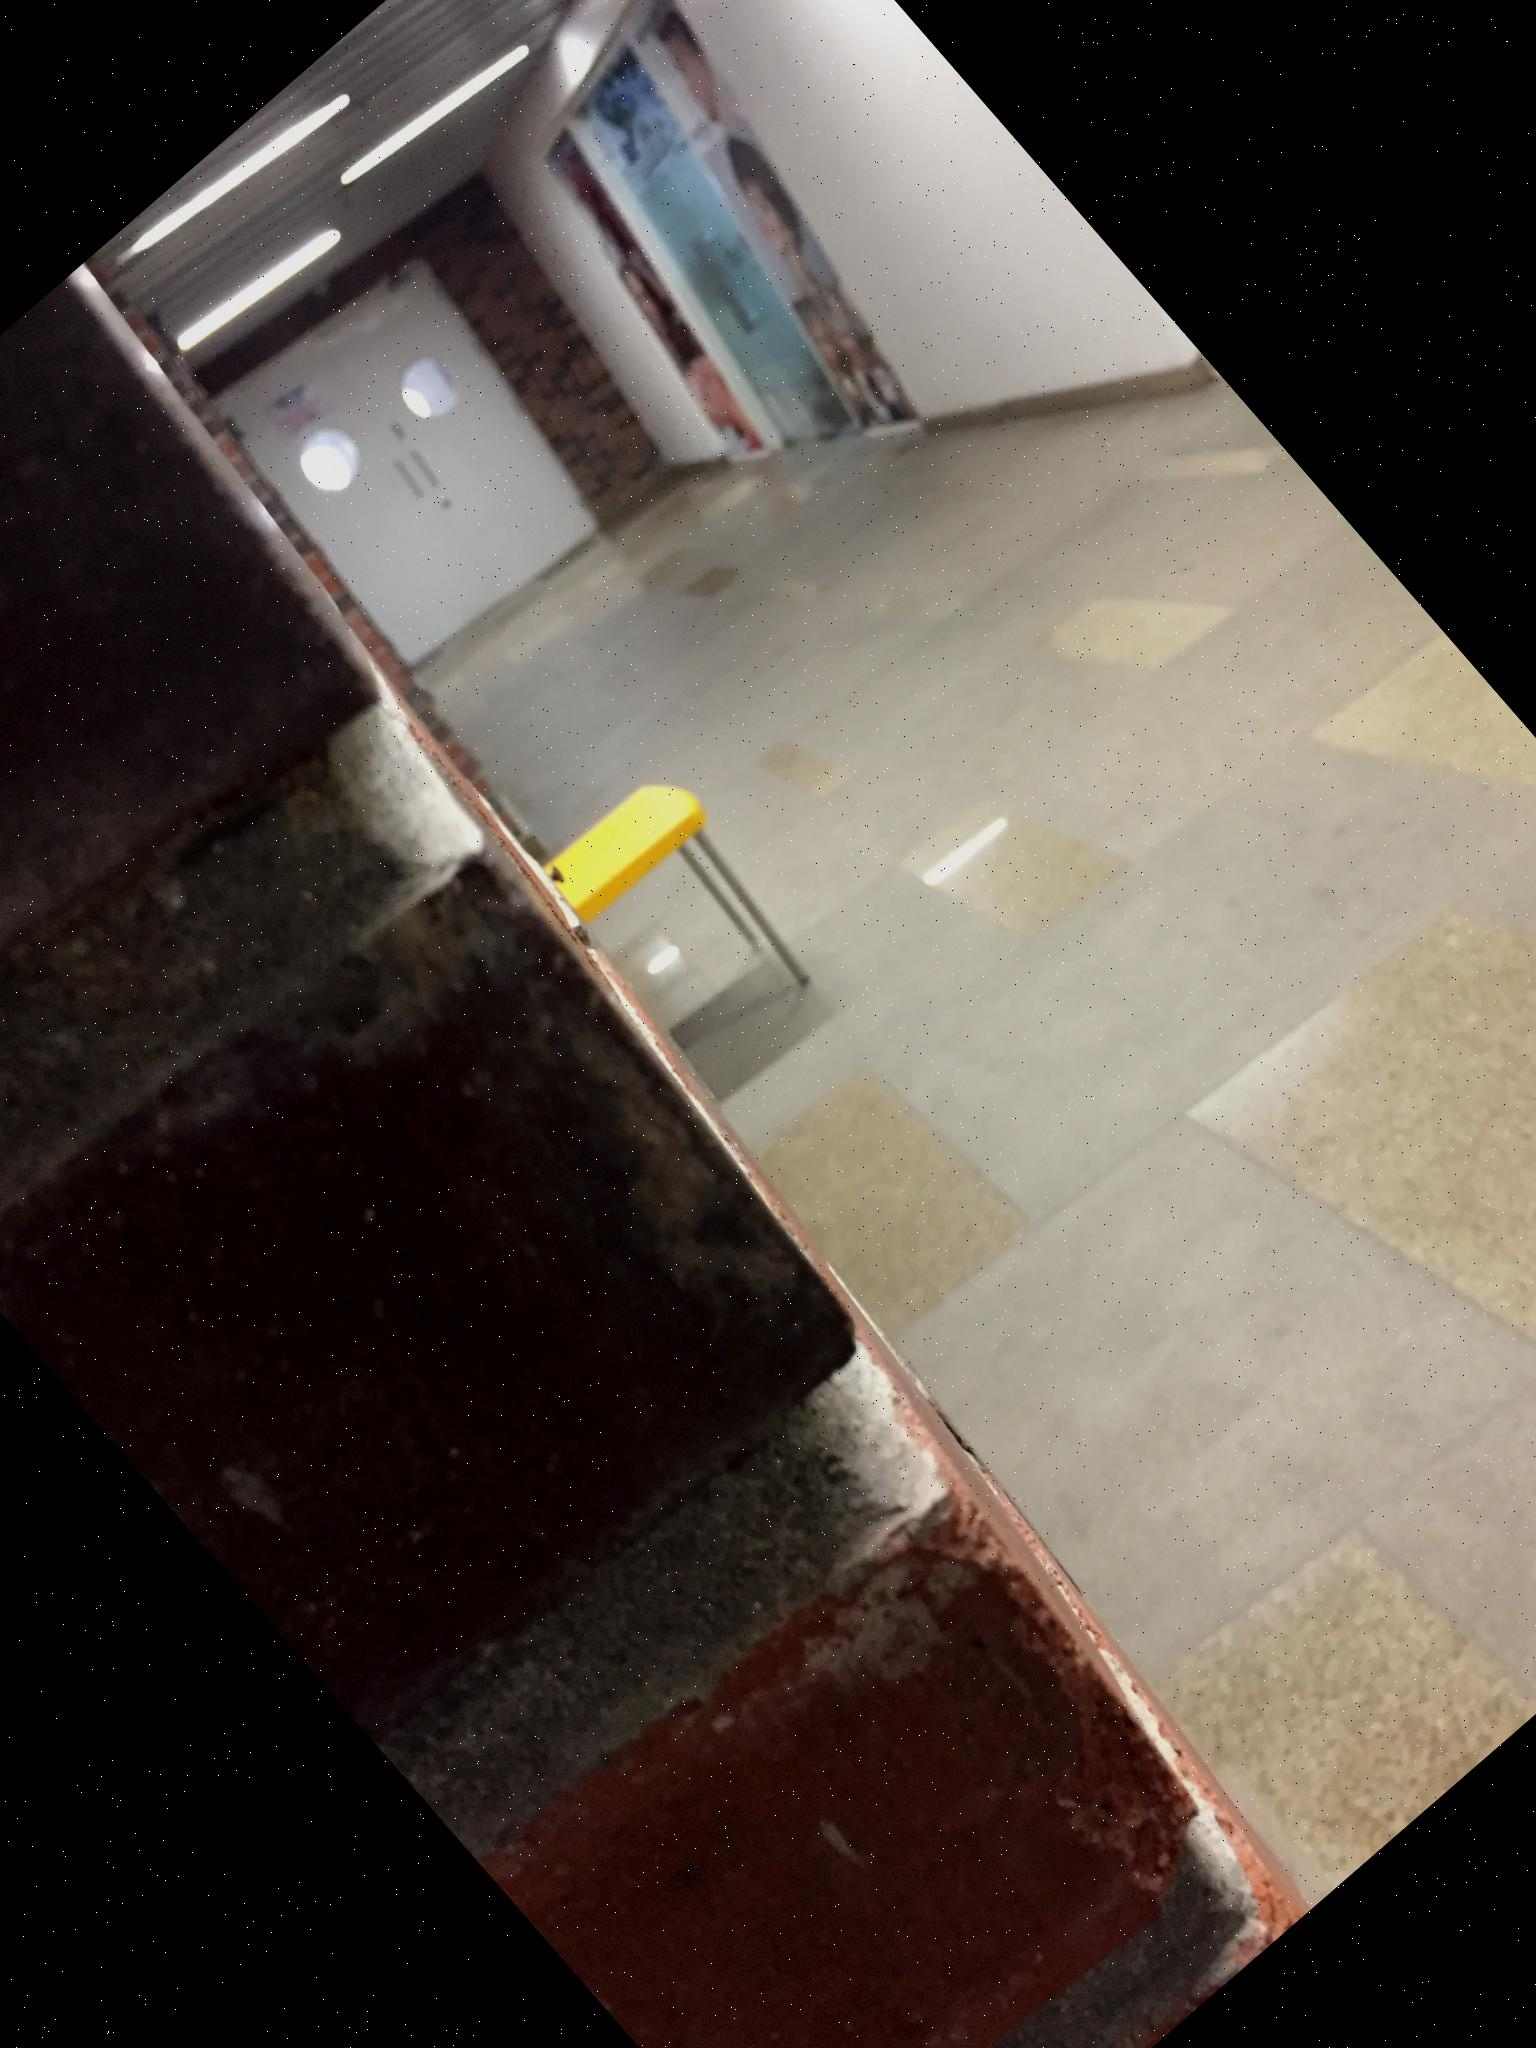chair: (447, 651, 844, 1069)
